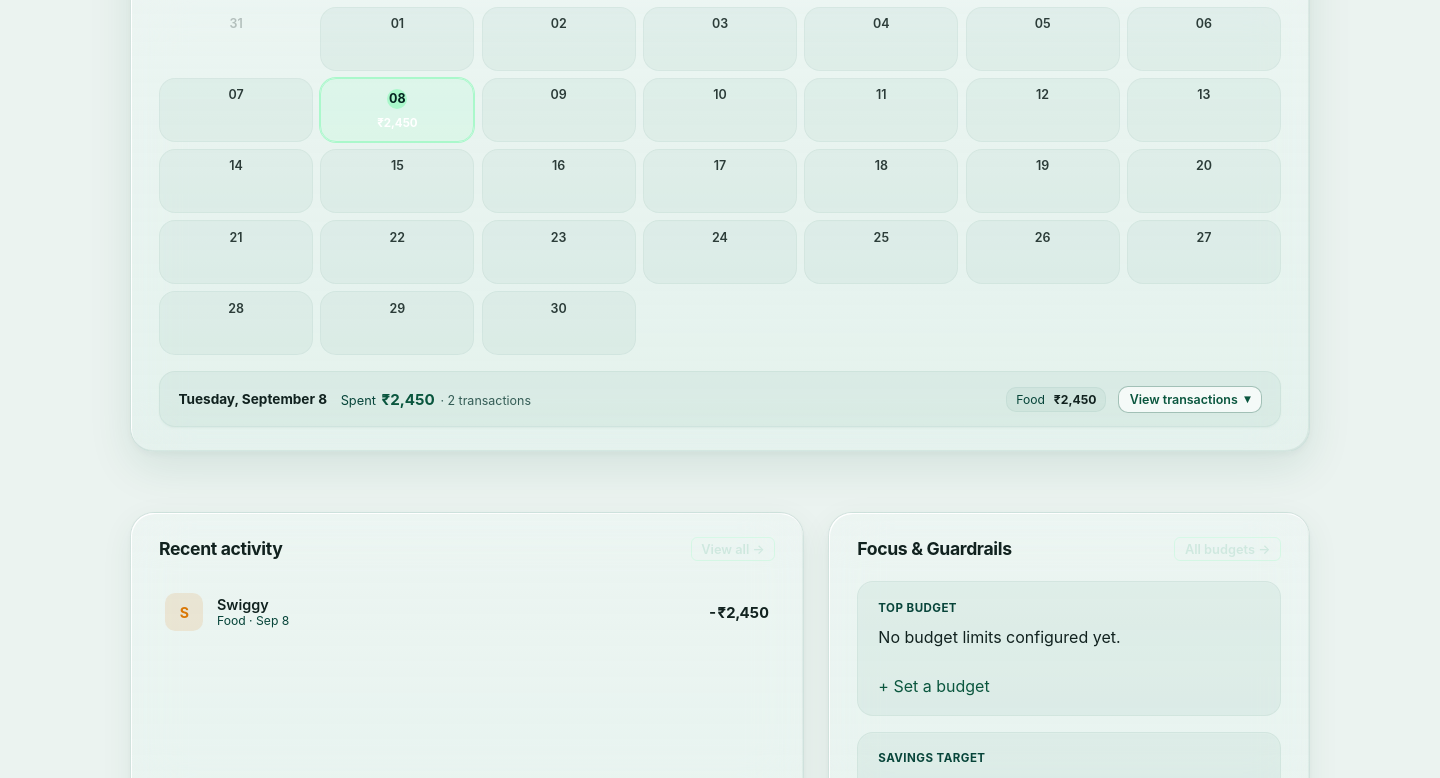
it: DashboardComponent › Spending Calendar - Expandable Daily Transactions › expands card, fetches transactions via TransactionService.list with single-day filter, and updates aria-expanded to true
(page scrolled)
Click the button with id "btn-toggle-daily-tx". click: (1190,399)
box: [1118, 386, 1262, 412]
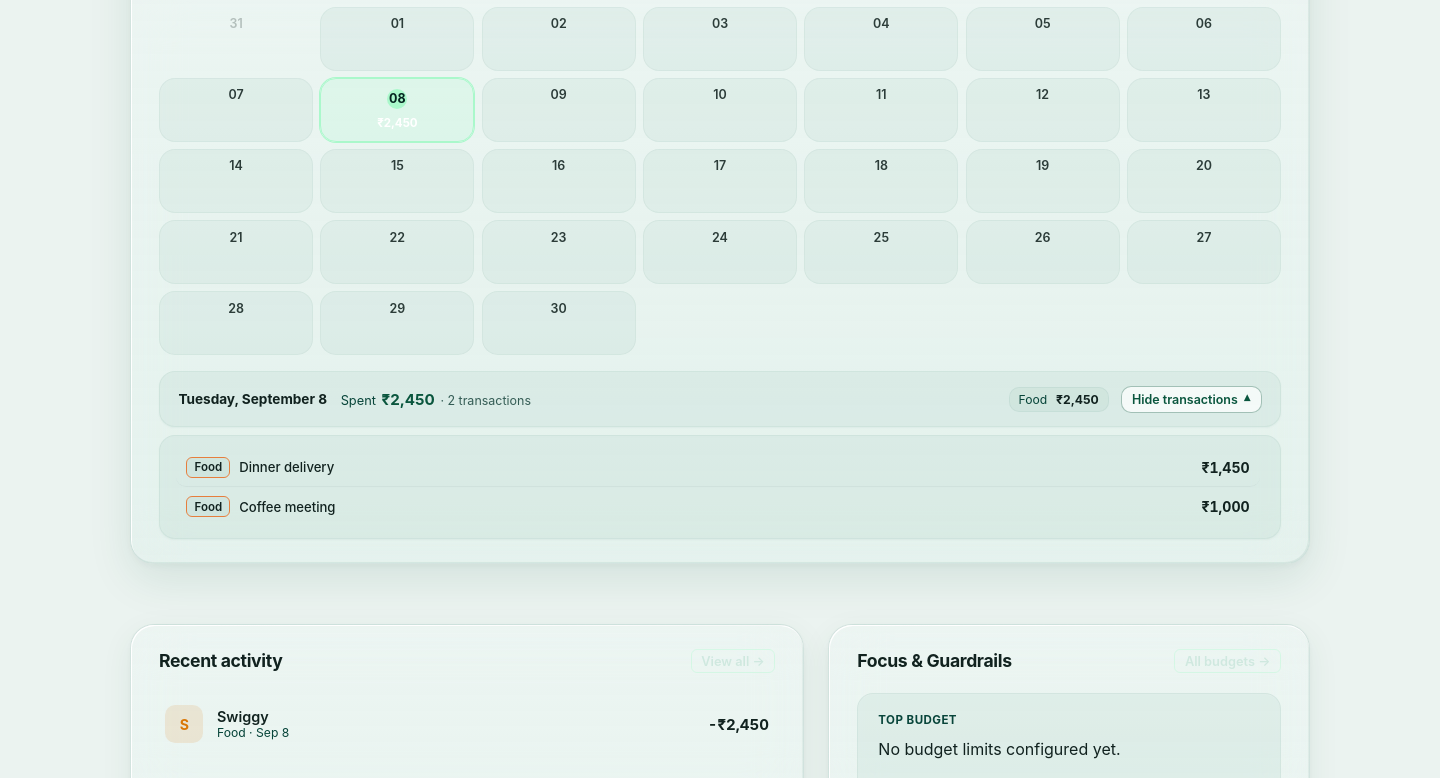
Now the button with id "btn-toggle-daily-tx" is expanded, box [1120, 386, 1262, 412]
Now the button with id "btn-toggle-daily-tx" shows "Hide transactions", box [1120, 386, 1262, 412]
Now the element with id "daily-tx-card" is shown, box [159, 435, 1281, 539]
